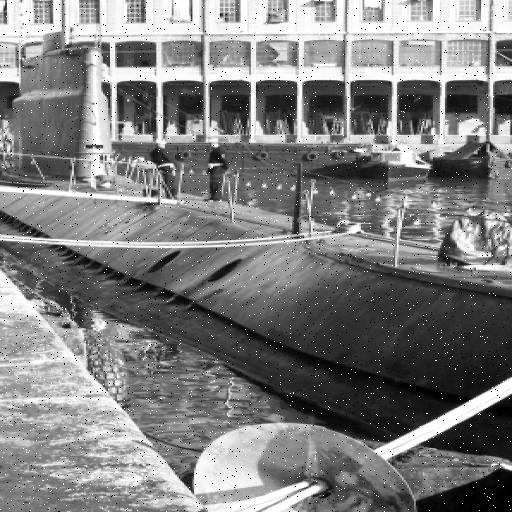submarine: (1, 36, 512, 460)
